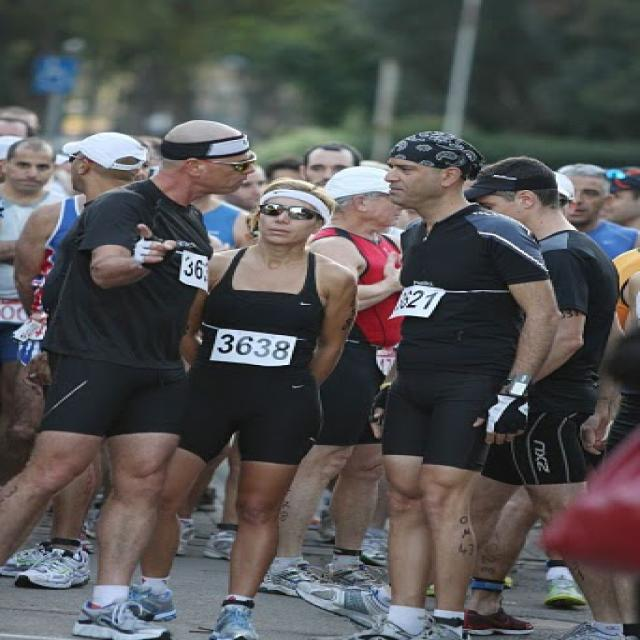Bib: (215, 331, 293, 364)
